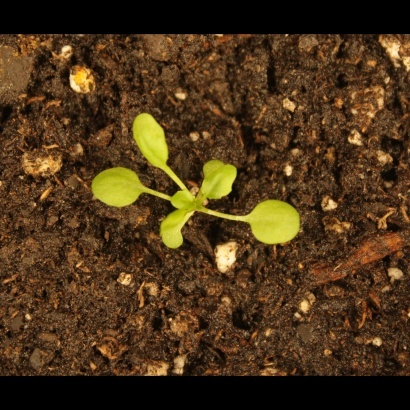leaf: (89, 163, 150, 215), (127, 109, 178, 171), (243, 196, 303, 247), (201, 161, 240, 202), (192, 152, 228, 180), (161, 222, 191, 251), (166, 185, 198, 210)
